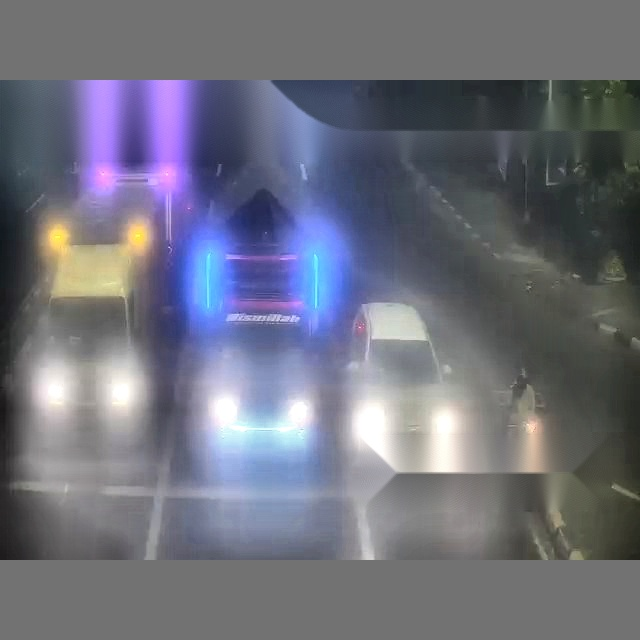Mobil: (350, 303, 457, 471)
